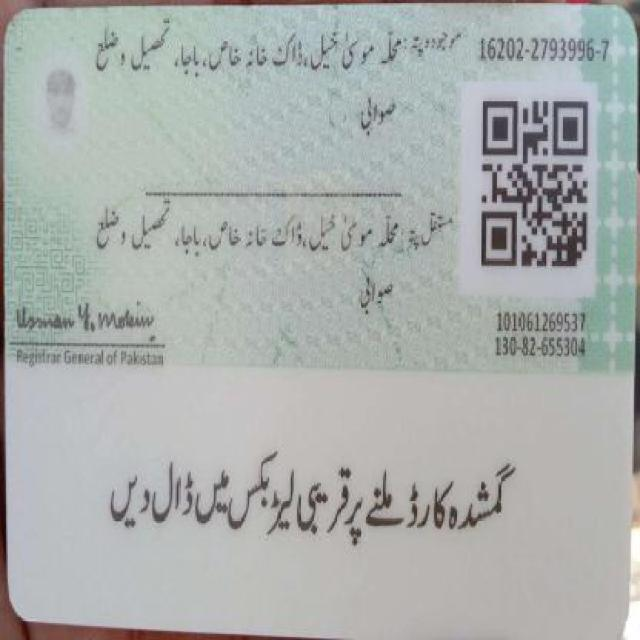Back: (9, 12, 629, 623)
